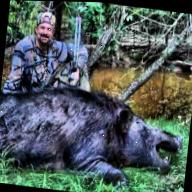boar: (0, 79, 190, 192)
